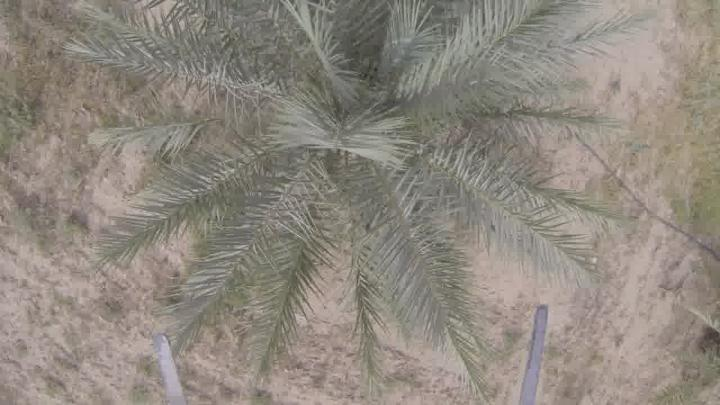Date-Palm-Crown: (181, 0, 501, 276)
